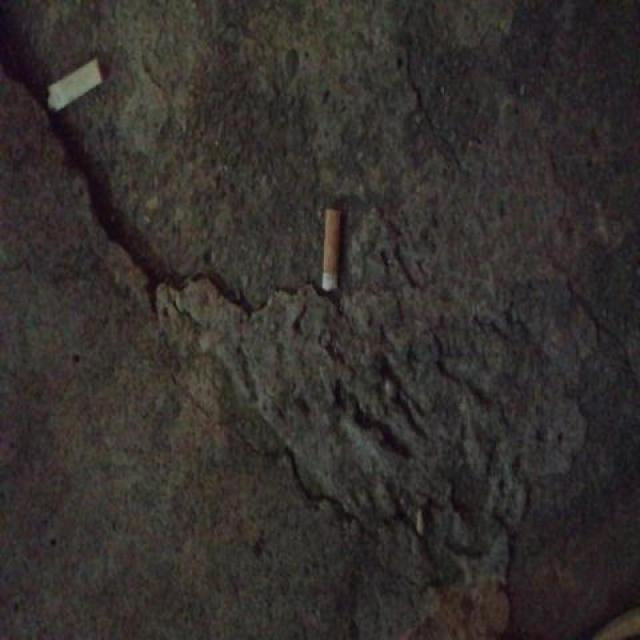non-organic waste: (44, 53, 108, 120), (316, 204, 347, 296)
